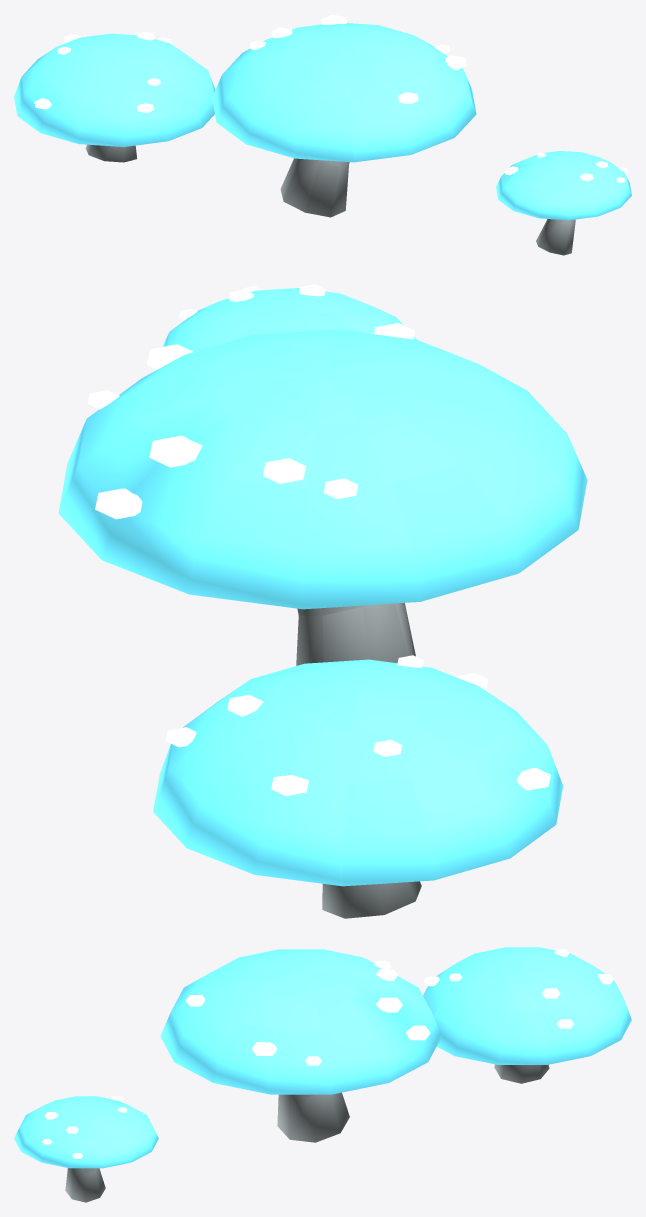
The model's file is obj_deco_hongos_3.glb.
3 renders of one model, top to bottom at view 1: azimuth 30°, elevation 25°; view 2: azimuth 150°, elevation 25°; view 3: azimuth 270°, elevation 25°, orthographic. The views are drawn at different scales.
Parts seen in each view (by area): view 1: propforge-libre-deco_hongos; view 2: propforge-libre-deco_hongos; view 3: propforge-libre-deco_hongos.
Part boxes in pixels (x1=…): propforge-libre-deco_hongos: x1=14, y1=14, x2=631, y2=255; propforge-libre-deco_hongos: x1=58, y1=284, x2=587, y2=918; propforge-libre-deco_hongos: x1=14, y1=947, x2=631, y2=1202.
Bounding box in the file's own units: 0.5603 × 0.2233 × 0.7334.
